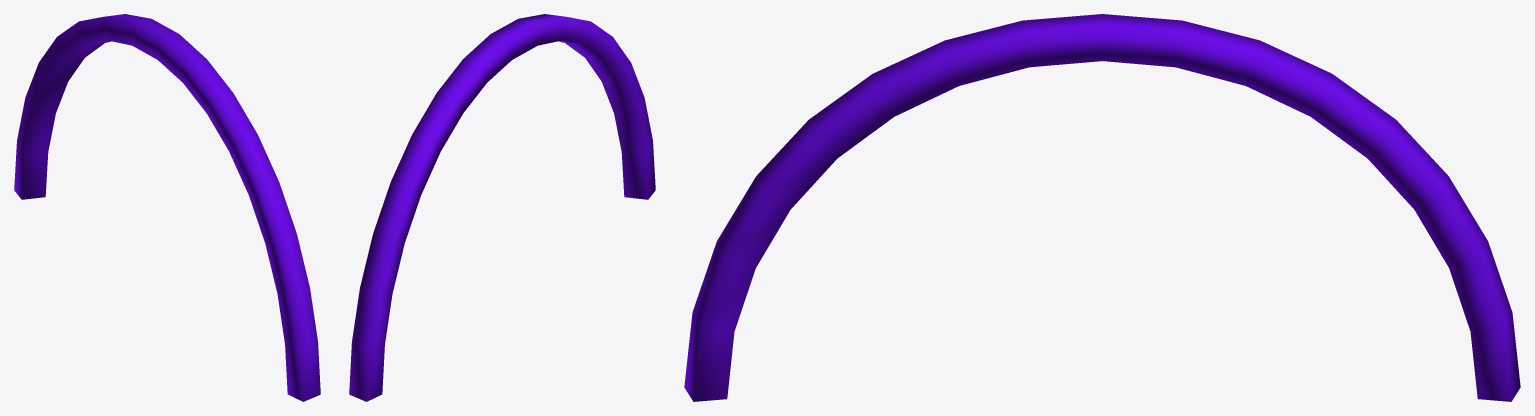
Rendered from Cupola_B.fbx.
The picture shows the model from 3 angles, left to right: view 1: azimuth 30°, elevation 25°; view 2: azimuth 150°, elevation 25°; view 3: azimuth 270°, elevation 25°; orthographic projection. The views are drawn at different scales.
Visible parts, largest first — view 1: Cupola_B; view 2: Cupola_B; view 3: Cupola_B.
Boxes of the visible parts, box(x1,y1,x2,y2) form: Cupola_B: box(14, 14, 320, 401); Cupola_B: box(349, 14, 655, 401); Cupola_B: box(684, 14, 1520, 401).
Size of the model in its own units: 26.91 by 269 by 546.
